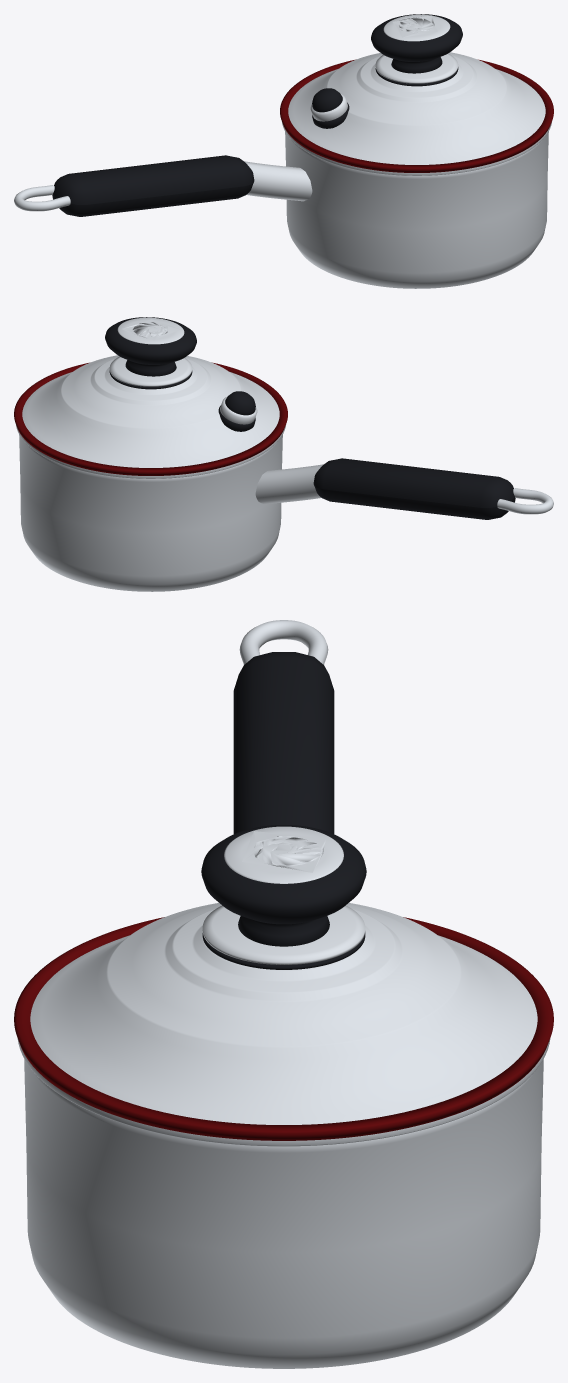
The model's file is olla-1-5-cuartos.glb.
3 views of the same model, one above another, from view 1: azimuth 30°, elevation 25°; view 2: azimuth 150°, elevation 25°; view 3: azimuth 270°, elevation 25° (orthographic). The views are drawn at different scales.
Parts seen in each view (by area): view 1: Cuerpo con interior, Tapa de acero con aros, Mango largo negro, Aro rojo de la tapa, NOVEL · Pomo cerrado redondeado, Cuello de mango, NOVEL · Base cromada del pomo, Argolla metálica del mango, NOVEL · Placa superior del pomo, NOVEL · Emblema original en relieve bajo, NOVEL · Válvula capuchón negro, NOVEL · Válvula banda cromada; view 2: Cuerpo con interior, Tapa de acero con aros, Mango largo negro, Aro rojo de la tapa, NOVEL · Pomo cerrado redondeado, Cuello de mango, NOVEL · Base cromada del pomo, Argolla metálica del mango, NOVEL · Placa superior del pomo, NOVEL · Emblema original en relieve bajo, NOVEL · Válvula capuchón negro, NOVEL · Válvula banda cromada; view 3: Cuerpo con interior, Tapa de acero con aros, Mango largo negro, Aro rojo de la tapa, NOVEL · Pomo cerrado redondeado, NOVEL · Base cromada del pomo, NOVEL · Placa superior del pomo, NOVEL · Emblema original en relieve bajo, Argolla metálica del mango, NOVEL · Junta negra del pomo.
Part boxes in pixels (x1,y1,x2,y2): Cuerpo con interior: (285,131,548,288); Tapa de acero con aros: (281,52,551,175); Mango largo negro: (52,155,254,216); Aro rojo de la tapa: (280,59,553,172); NOVEL · Pomo cerrado redondeado: (371,14,462,73); Cuello de mango: (244,161,312,201); NOVEL · Base cromada del pomo: (375,53,458,83); Argolla metálica del mango: (14,185,70,211); NOVEL · Placa superior del pomo: (383,14,450,41); NOVEL · Emblema original en relieve bajo: (392,15,437,37); NOVEL · Válvula capuchón negro: (312,88,342,112); NOVEL · Válvula banda cromada: (310,93,347,121); Cuerpo con interior: (19,434,282,591); Tapa de acero con aros: (16,355,286,478); Mango largo negro: (313,458,515,519); Aro rojo de la tapa: (14,362,287,475); NOVEL · Pomo cerrado redondeado: (105,317,196,376); Cuello de mango: (255,464,323,504); NOVEL · Base cromada del pomo: (109,356,192,386); Argolla metálica del mango: (497,488,553,514); NOVEL · Placa superior del pomo: (117,317,184,344); NOVEL · Emblema original en relieve bajo: (122,319,180,340); NOVEL · Válvula capuchón negro: (225,391,255,415); NOVEL · Válvula banda cromada: (220,396,257,424); Cuerpo con interior: (24,1059,543,1368); Tapa de acero con aros: (17,903,550,1146); Mango largo negro: (233,652,334,833); Aro rojo de la tapa: (14,917,553,1140); NOVEL · Pomo cerrado redondeado: (201,825,366,946); NOVEL · Base cromada del pomo: (202,905,365,964); NOVEL · Placa superior del pomo: (224,826,343,883); NOVEL · Emblema original en relieve bajo: (242,831,325,872); Argolla metálica del mango: (239,620,328,664); NOVEL · Junta negra del pomo: (202,933,365,969).
Bounding box in the file's own units: 0.363 × 0.1432 × 0.166.
